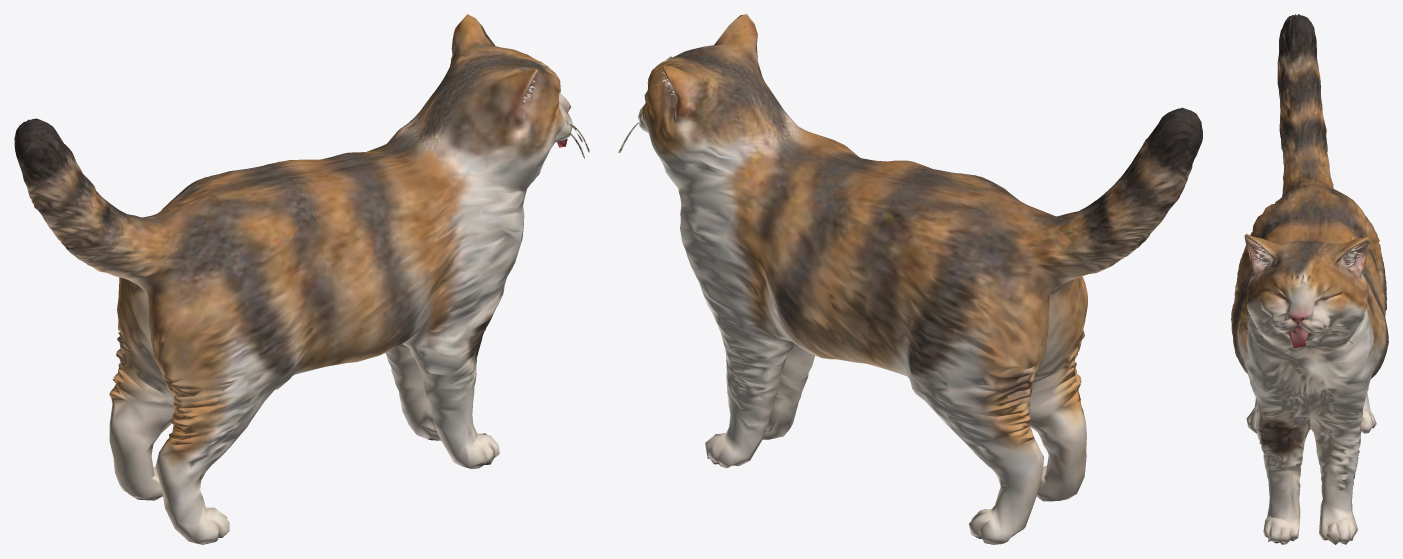
File: BLEHMILLY-lo.glb
3 views of the same model, side by side, from view 1: azimuth 30°, elevation 25°; view 2: azimuth 150°, elevation 25°; view 3: azimuth 270°, elevation 25° (orthographic). The views are drawn at different scales.
Parts seen in each view (by area): view 1: tripo_node_dee11508-eb11-41ef-82cd-93bb68c3ada4; view 2: tripo_node_dee11508-eb11-41ef-82cd-93bb68c3ada4; view 3: tripo_node_dee11508-eb11-41ef-82cd-93bb68c3ada4.
Boxes of the visible parts, x1,y1,x2,y2 form: tripo_node_dee11508-eb11-41ef-82cd-93bb68c3ada4: (14,14,589,544); tripo_node_dee11508-eb11-41ef-82cd-93bb68c3ada4: (618,14,1202,544); tripo_node_dee11508-eb11-41ef-82cd-93bb68c3ada4: (1231,14,1388,544).
Size of the model in its own units: 1.32 by 0.998 by 0.4028.
Materials: 1 (1 with a texture image).
